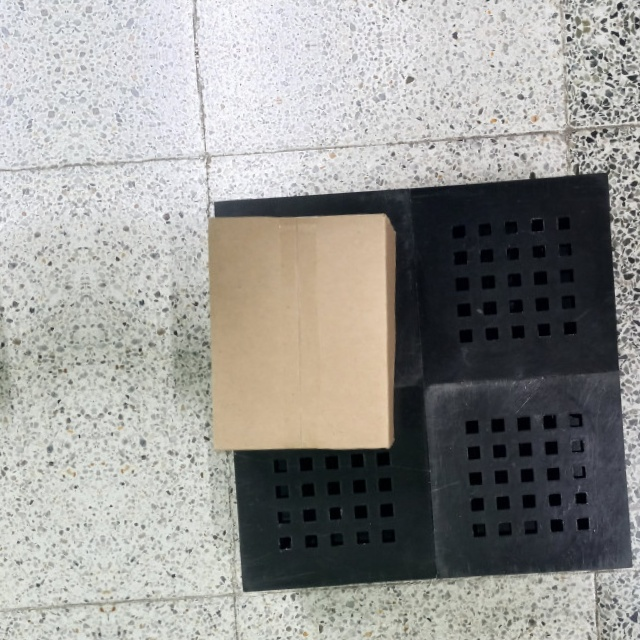box: (202, 210, 393, 451)
pallet: (191, 157, 637, 593)
